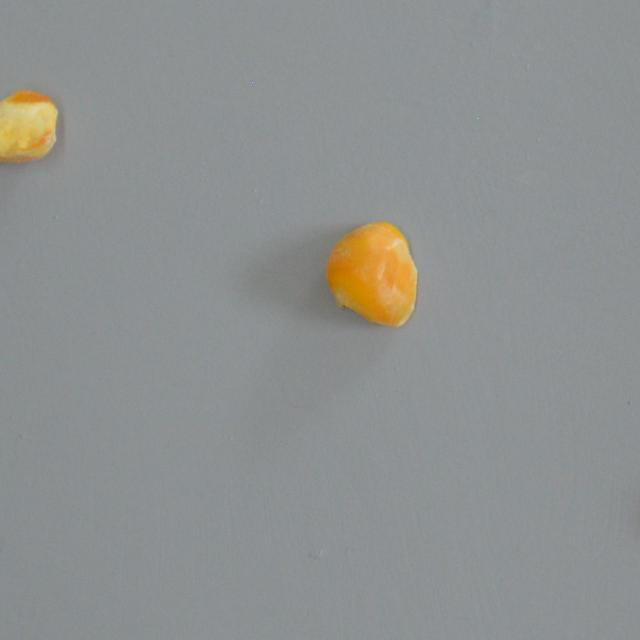pelicula: (325, 219, 419, 331), (0, 86, 58, 166)
